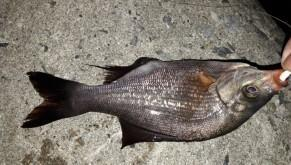fish: (21, 57, 290, 149)
